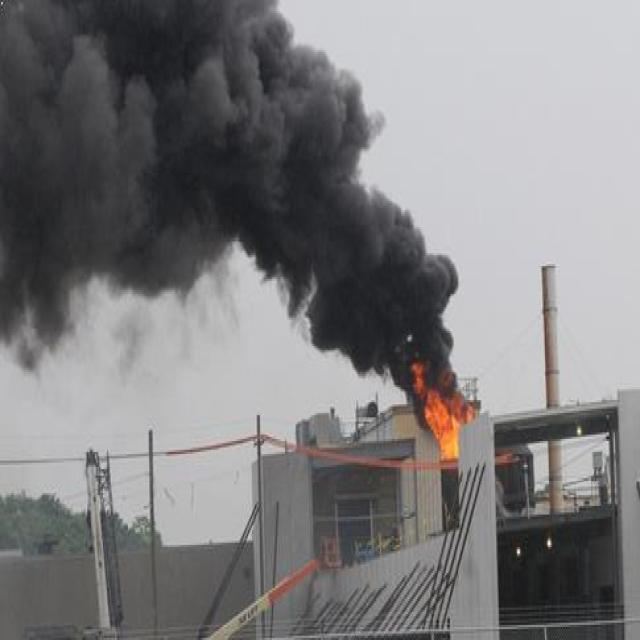Fire: (414, 371, 469, 462)
Smoke: (0, 2, 279, 278), (280, 86, 367, 352), (368, 193, 459, 371)
